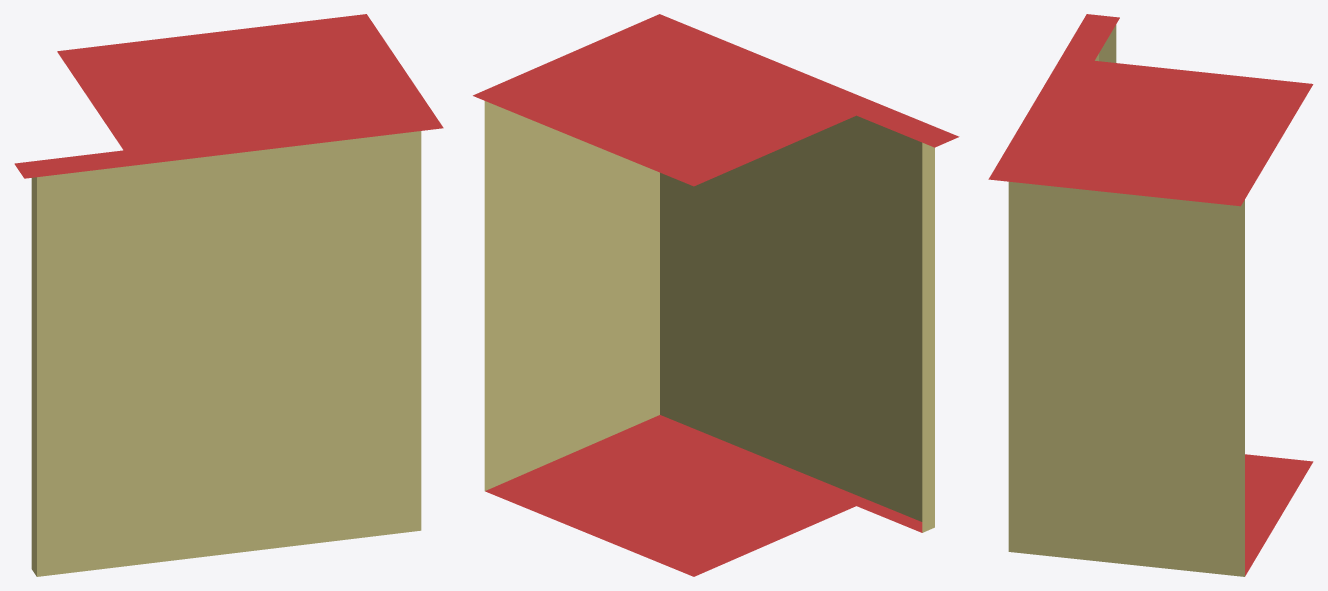
The picture shows the model from 3 angles, left to right: view 1: azimuth 30°, elevation 25°; view 2: azimuth 150°, elevation 25°; view 3: azimuth 270°, elevation 25°; orthographic projection. The views are drawn at different scales.
Bounding box in the file's own units: 6.81 × 4.86 × 6.23.
